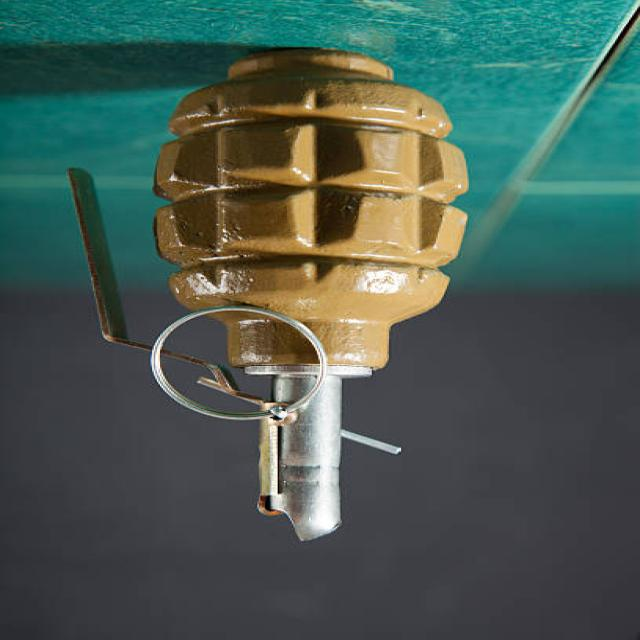grenade: (50, 43, 488, 548)
